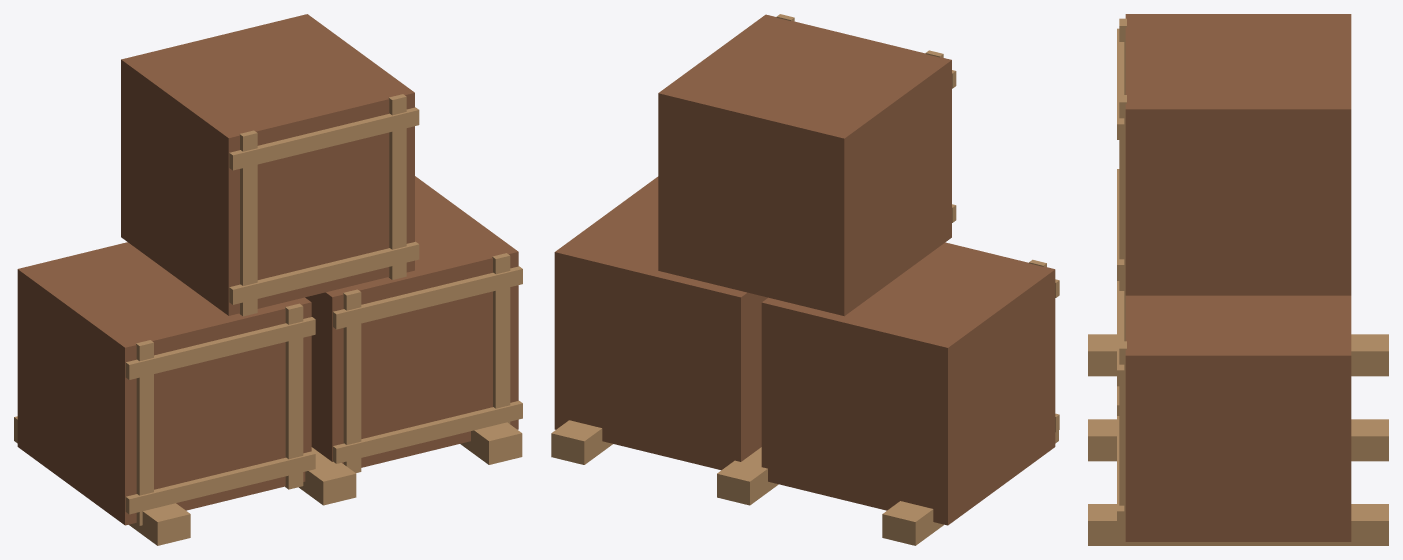
The model's file is crate-stack.glb.
3 views of the same model, side by side, from view 1: azimuth 30°, elevation 25°; view 2: azimuth 150°, elevation 25°; view 3: azimuth 270°, elevation 25° (orthographic). The views are drawn at different scales.
Visible parts, largest first — view 1: crate-stack; view 2: crate-stack; view 3: crate-stack.
Part boxes in pixels (x1,y1,x2,y2): crate-stack: (14,14,522,545); crate-stack: (551,14,1059,545); crate-stack: (1088,14,1388,545).
Size of the model in its own units: 1.9 by 1.73 by 1.2.
